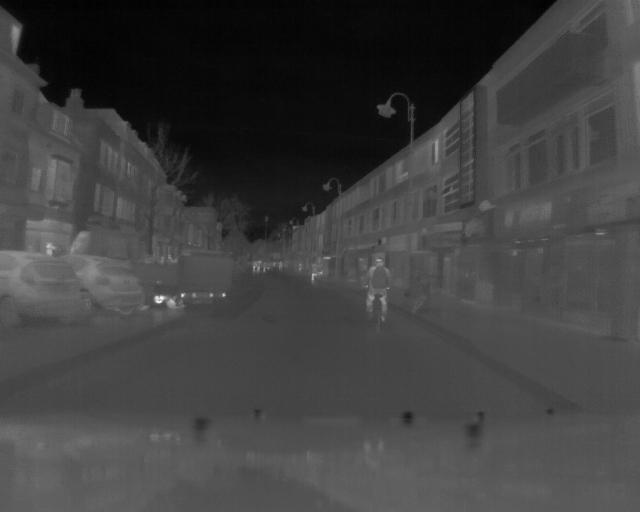car: (1, 251, 86, 324), (69, 249, 146, 318)
person: (363, 253, 391, 320)
